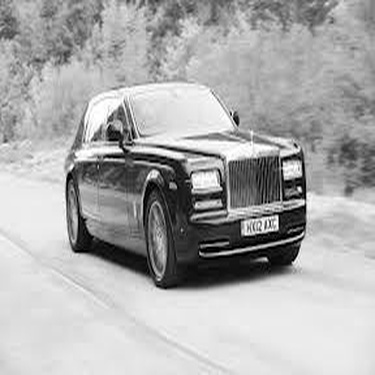car: (33, 65, 318, 289)
